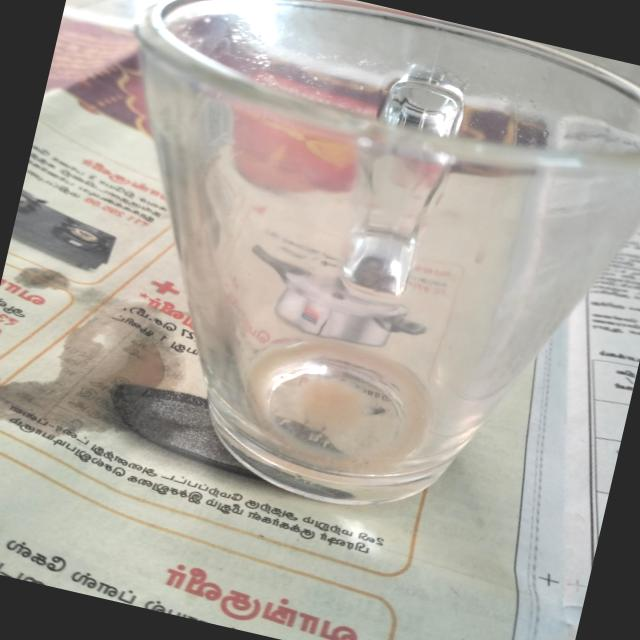glass-VX4N: (30, 0, 640, 567)
